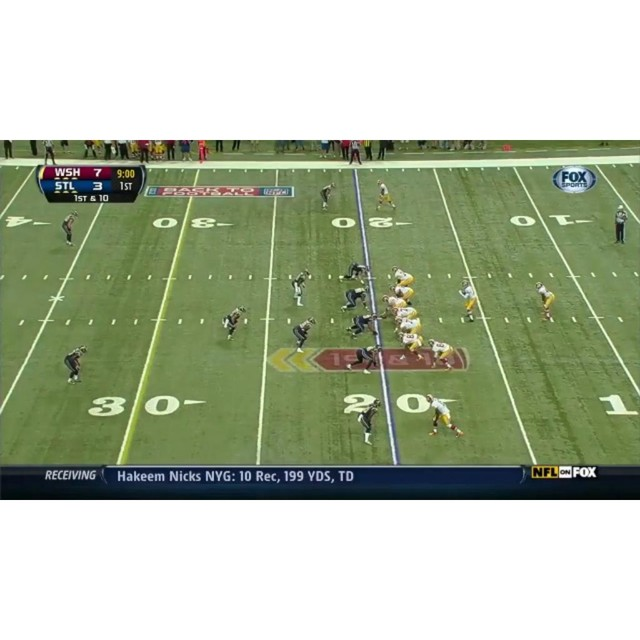american-football-player: (427, 393, 464, 437), (358, 399, 381, 446), (347, 312, 383, 339), (346, 345, 381, 372), (64, 345, 87, 384), (292, 316, 316, 352), (222, 305, 246, 341), (535, 281, 556, 322), (458, 279, 478, 322), (398, 332, 425, 363), (428, 338, 454, 370), (291, 269, 311, 307), (341, 286, 368, 313), (339, 262, 371, 284), (61, 210, 78, 247), (377, 179, 396, 211), (390, 265, 415, 288), (390, 282, 414, 304), (320, 183, 336, 211)
referee: (614, 205, 628, 244)
